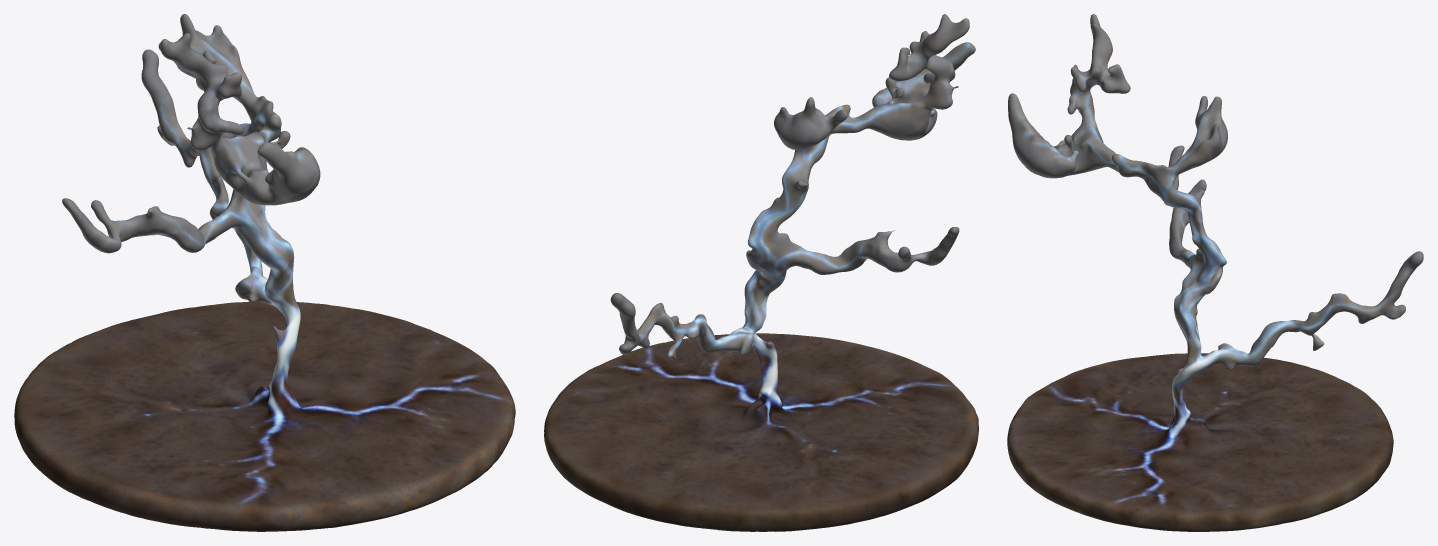
The model's file is lightning_c.glb.
The picture shows the model from 3 angles, left to right: view 1: azimuth 30°, elevation 25°; view 2: azimuth 150°, elevation 25°; view 3: azimuth 270°, elevation 25°; orthographic projection. The views are drawn at different scales.
Parts seen in each view (by area): view 1: geometry_0; view 2: geometry_0; view 3: geometry_0.
Part boxes in pixels (box(x1,y1,x2,y2)): geometry_0: box(14, 14, 515, 531); geometry_0: box(544, 14, 978, 531); geometry_0: box(1007, 14, 1423, 531).
Size of the model in its own units: 0.3927 by 0.4197 by 0.4206.
1 material, 1 textured.
